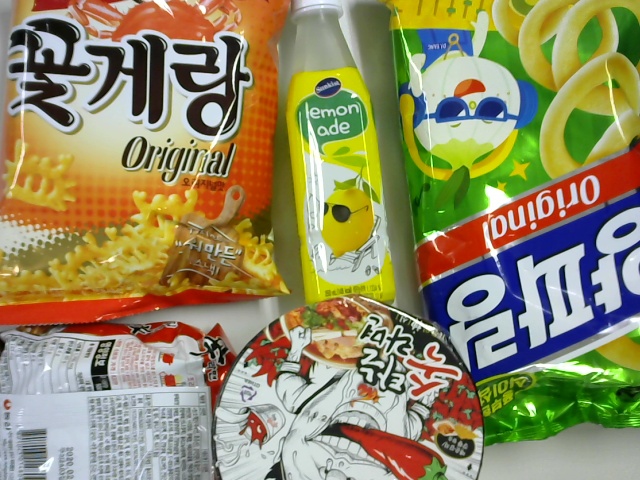Crabrang: (2, 1, 295, 329)
HeJangsock: (217, 299, 490, 480)
Oninon_Ring: (388, 1, 634, 448)
Sinramen: (6, 316, 236, 480)
Sunkist_Lemonaid_Pet: (276, 1, 388, 316)
